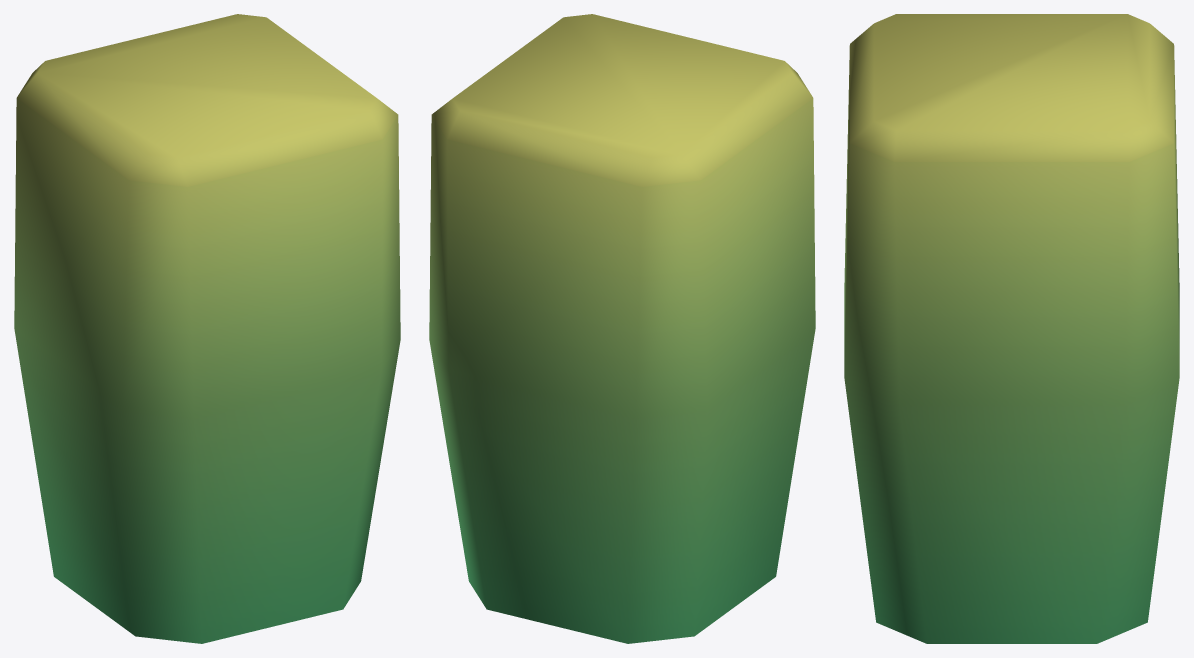
File: Hedge_Square_01.fbx
3 renders of one model, left to right at view 1: azimuth 30°, elevation 25°; view 2: azimuth 150°, elevation 25°; view 3: azimuth 270°, elevation 25°, orthographic. The views are drawn at different scales.
Parts seen in each view (by area): view 1: Hedge_Square_01; view 2: Hedge_Square_01; view 3: Hedge_Square_01.
Boxes of the visible parts, bbox=[...] form: Hedge_Square_01: bbox=[14, 14, 400, 643]; Hedge_Square_01: bbox=[429, 14, 815, 643]; Hedge_Square_01: bbox=[844, 14, 1179, 643].
Size of the model in its own units: 118 by 200 by 118.
